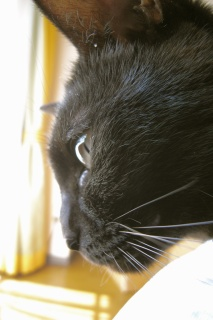Cat: (22, 0, 212, 290)
